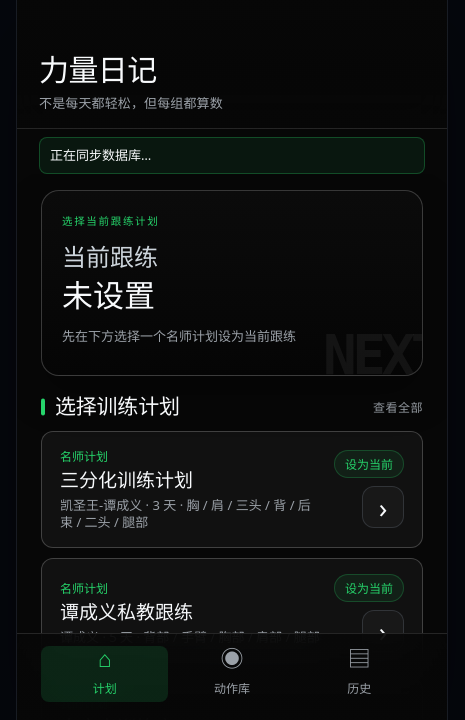
fitness PWA user flows › opens an exercise profile with personal records from workout history
Click the button named "◉动作库" at coordinates (232, 674), box [168,646,296,702]
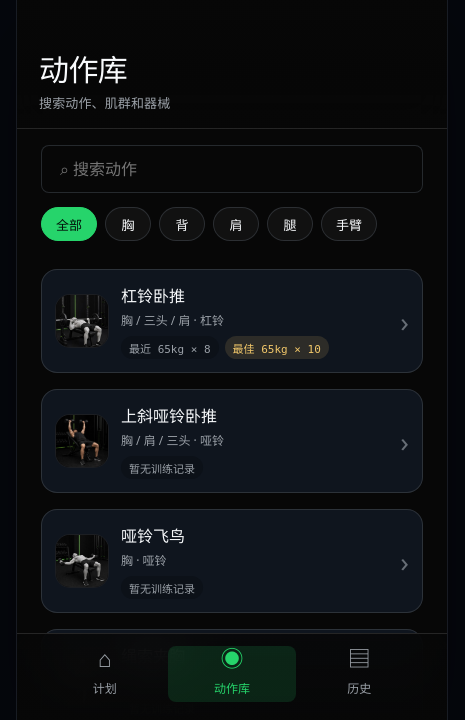
Expected: the text "最近 65kg × 8" is shown, [121,336,219,359]
Click the button with aria-label "打开杠铃卧推动作详情" at coordinates (82, 321), box [41,269,423,373]
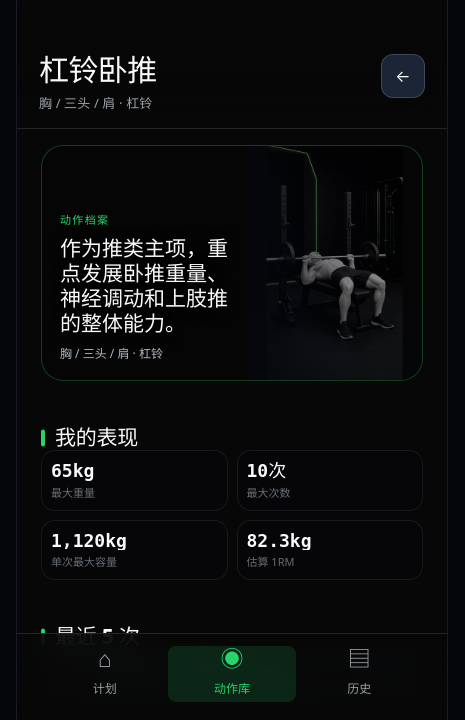
Expected: the text "65kg" is shown, [51,460,94,481]
Expected: the heading "杠铃卧推" is shown, [39,54,157,86]
Expected: the heading "我的表现" is shown, [41,425,138,450]
